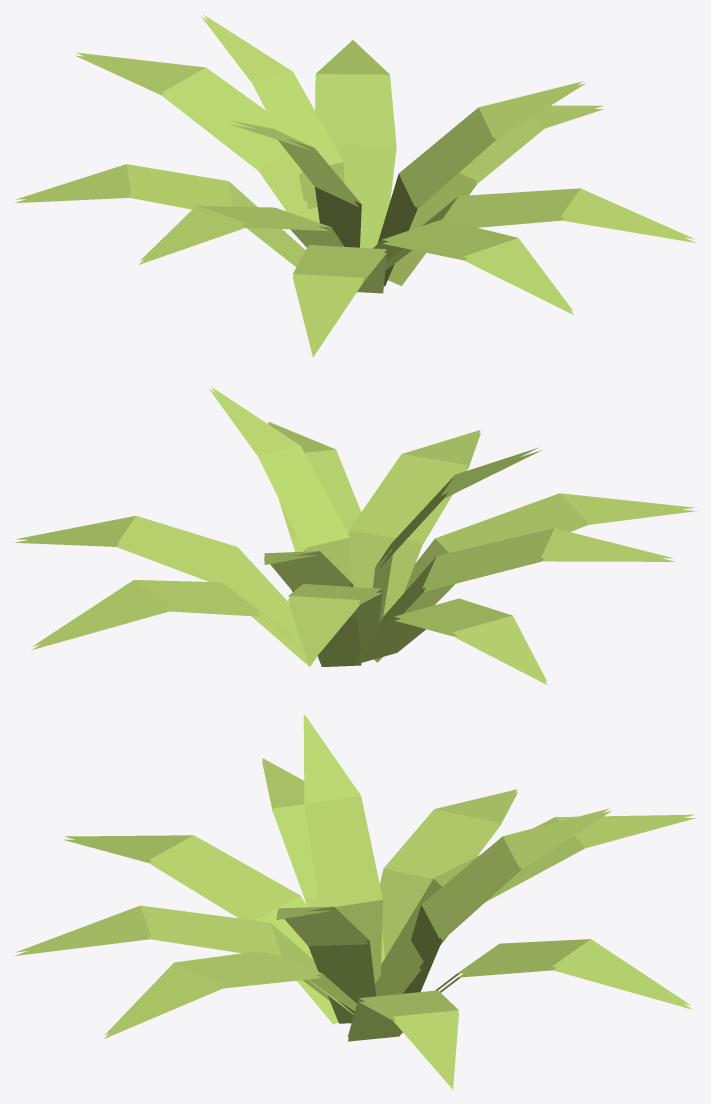
Rendered from Plant2.fbx.
3 views of the same model, one above another, from view 1: azimuth 30°, elevation 25°; view 2: azimuth 150°, elevation 25°; view 3: azimuth 270°, elevation 25° (orthographic).
Visible parts, largest first — view 1: Plant2; view 2: Plant2; view 3: Plant2.
Boxes of the visible parts, x1,y1,x2,y2 form: Plant2: [14, 15, 695, 357]; Plant2: [15, 387, 696, 684]; Plant2: [15, 715, 695, 1089].
Bounding box in the file's own units: 1.49 × 0.5799 × 1.54.
